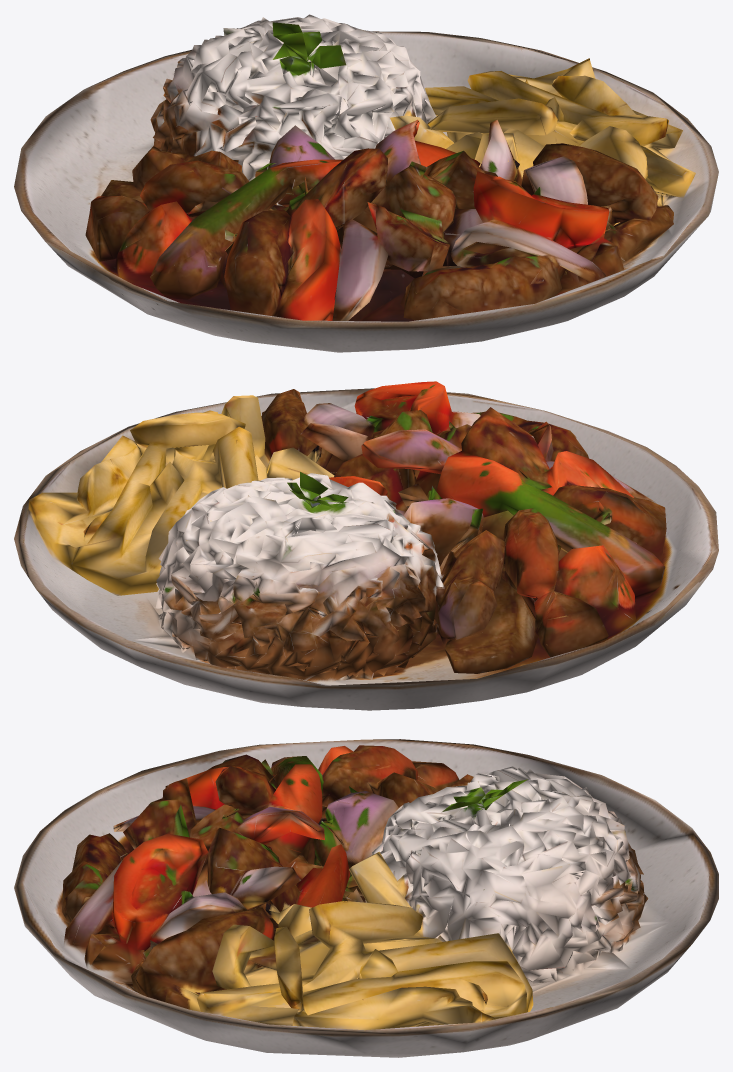
Rendered from Meshy_AI_Lomo_Saltado_redimencion.glb.
The picture shows the model from 3 angles, top to bottom: view 1: azimuth 30°, elevation 25°; view 2: azimuth 150°, elevation 25°; view 3: azimuth 270°, elevation 25°; orthographic projection.
Visible parts, largest first — view 1: Mesh_0; view 2: Mesh_0; view 3: Mesh_0.
Part boxes in pixels (bbox=[...]): Mesh_0: bbox=[14, 14, 718, 352]; Mesh_0: bbox=[14, 381, 718, 710]; Mesh_0: bbox=[14, 739, 718, 1057].
Bounding box in the file's own units: 0.5613 × 0.16 × 0.5631.
Materials: 1 (1 with a texture image).
